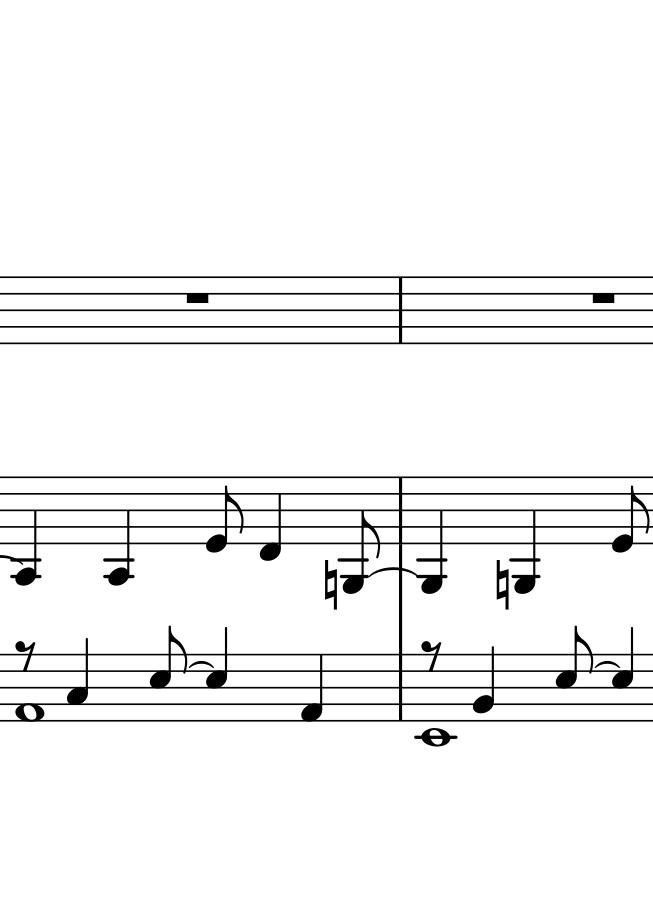1_-2: (415, 653, 461, 748)
1_1: (14, 651, 44, 724)
4_-4: (12, 475, 40, 587), (105, 473, 133, 585)
4_-5: (417, 476, 449, 595), (510, 475, 542, 594)
4_1: (298, 653, 324, 724)
4_2: (472, 644, 498, 722)
4_3: (65, 636, 90, 721)
4_5: (610, 628, 637, 721), (204, 629, 229, 719)
8_-1: (256, 477, 284, 563)
8_-5: (340, 477, 381, 597)
8_0: (206, 474, 242, 553), (612, 476, 647, 553)
8_5: (554, 625, 594, 724), (149, 623, 185, 723)
Natural: (322, 557, 339, 612), (494, 557, 511, 611)
Rests1: (588, 289, 619, 306), (182, 290, 212, 306)
Rests8: (420, 640, 444, 673), (14, 640, 38, 671)
Single_barline: (393, 278, 408, 343), (393, 656, 408, 719)
Slur: (366, 565, 416, 580), (189, 660, 215, 669), (595, 660, 621, 669)
